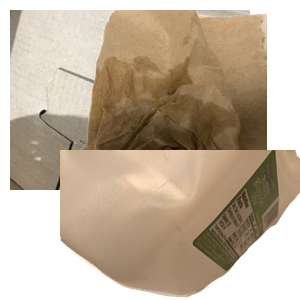cardboard: (10, 10, 250, 190)
glass: (77, 178, 205, 300)
plastic: (60, 150, 300, 300)
trash: (60, 10, 300, 190)
